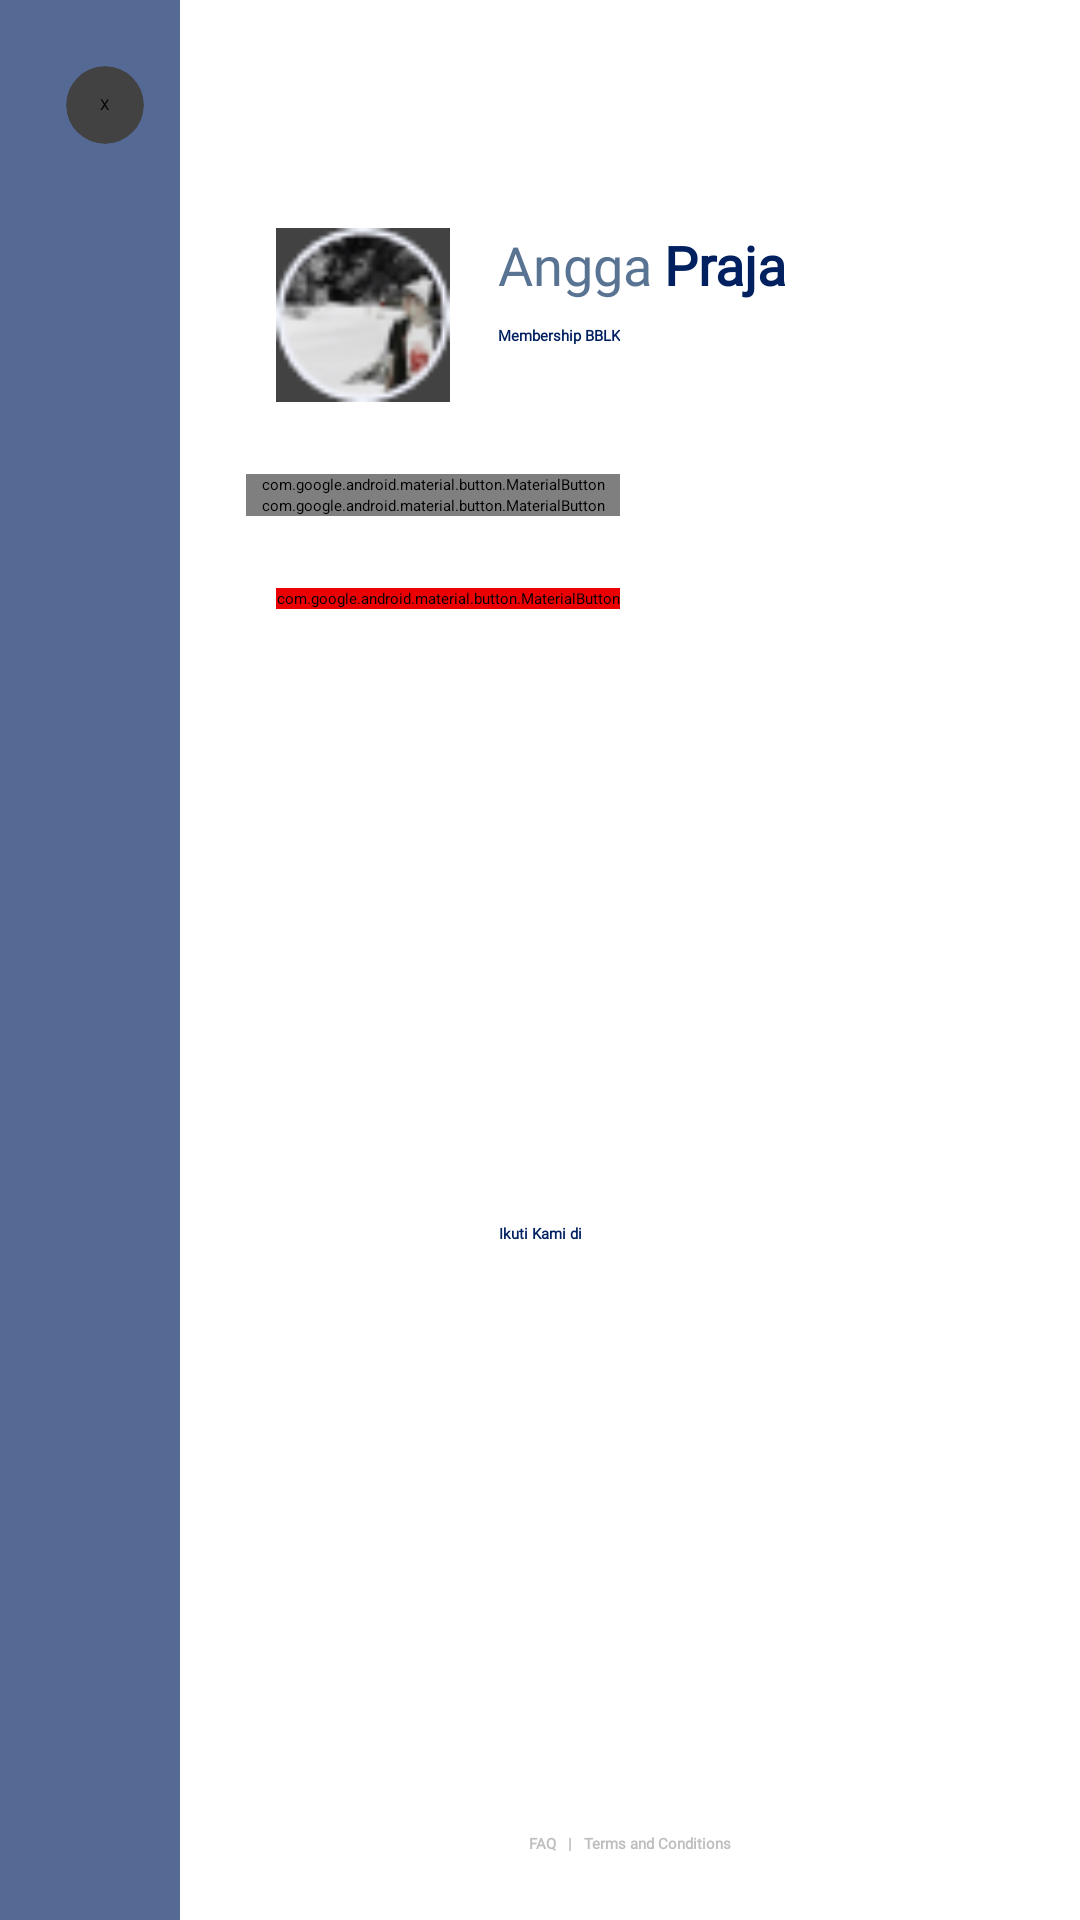

Icon click points for this 1080×1920 phone screenshot, format (x=x, y=y):
example profile: (x=363, y=315)
